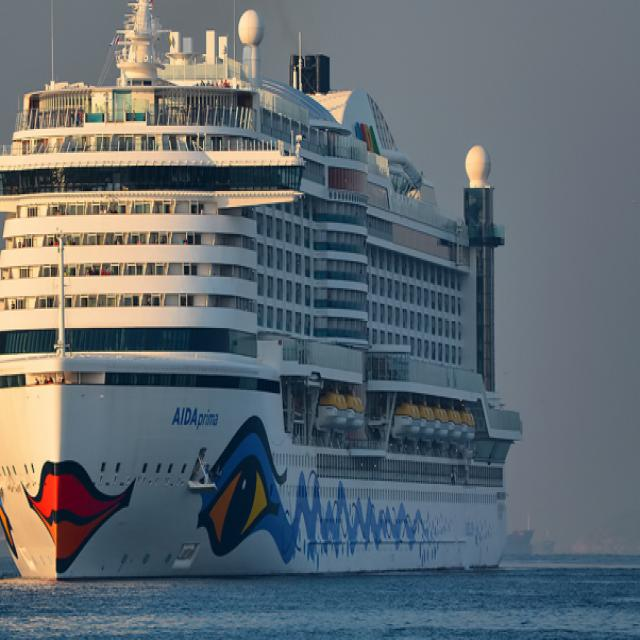cruises: (1, 1, 536, 587)
